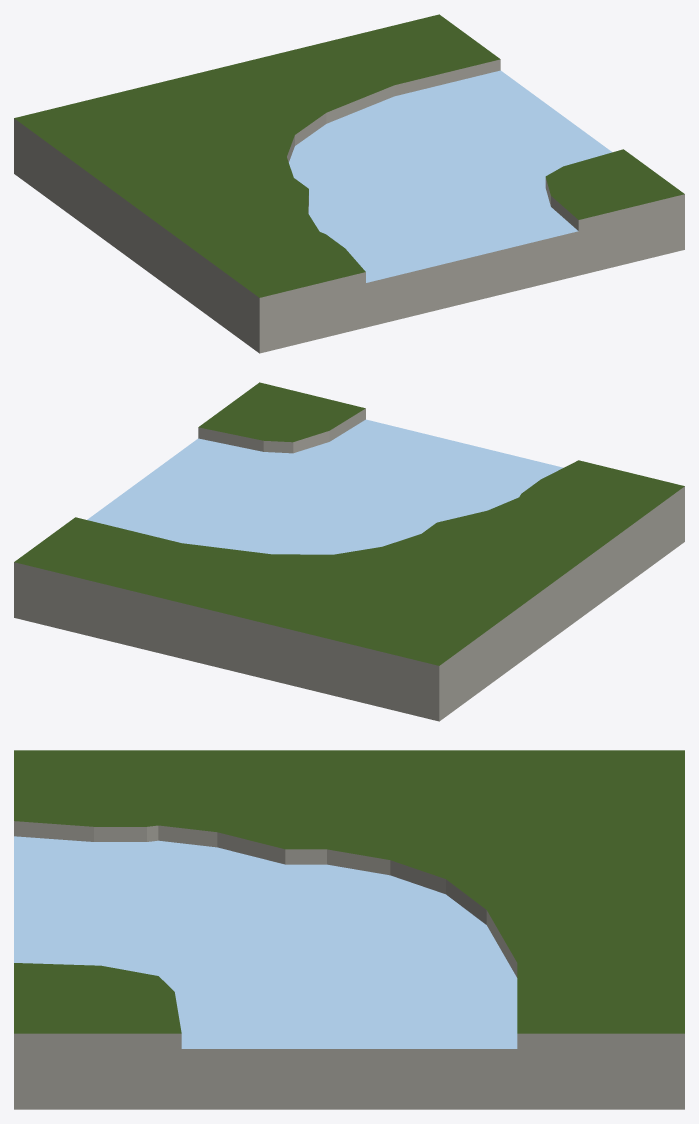
The model's file is Terrain_Tile_Grass_Rock_River_Bend_03.fbx.
3 renders of one model, top to bottom at view 1: azimuth 30°, elevation 25°; view 2: azimuth 150°, elevation 25°; view 3: azimuth 270°, elevation 25°, orthographic. The views are drawn at different scales.
Visible parts, largest first — view 1: Terrain_Tile_Grass_Rock_River_Bend_03; view 2: Terrain_Tile_Grass_Rock_River_Bend_03; view 3: Terrain_Tile_Grass_Rock_River_Bend_03.
Part boxes in pixels (bbox=[...]): Terrain_Tile_Grass_Rock_River_Bend_03: bbox=[14, 14, 684, 353]; Terrain_Tile_Grass_Rock_River_Bend_03: bbox=[14, 382, 684, 721]; Terrain_Tile_Grass_Rock_River_Bend_03: bbox=[14, 750, 684, 1109].
Bounding box in the file's own units: 126 × 15.75 × 126.
